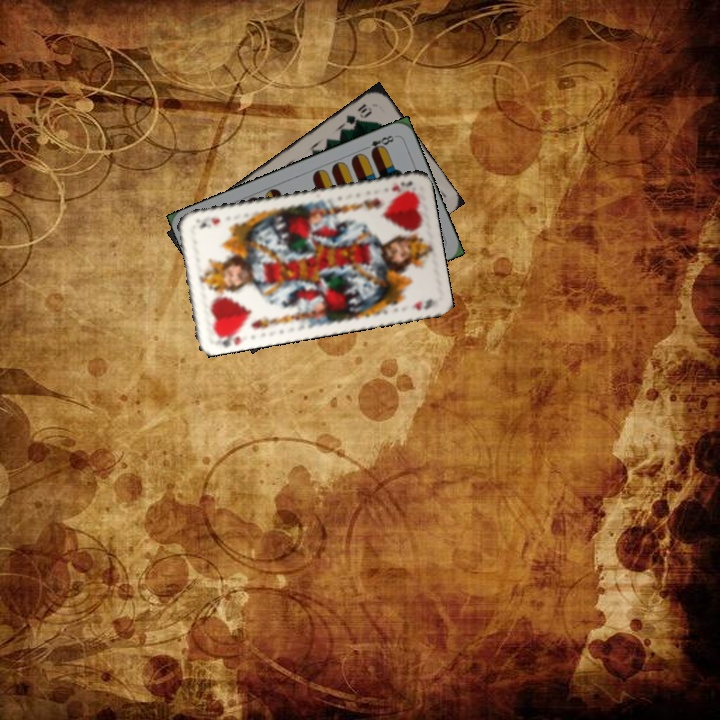E8: (359, 131, 396, 156)
G10: (342, 99, 375, 127)
HK: (212, 326, 245, 349), (388, 177, 417, 196)
